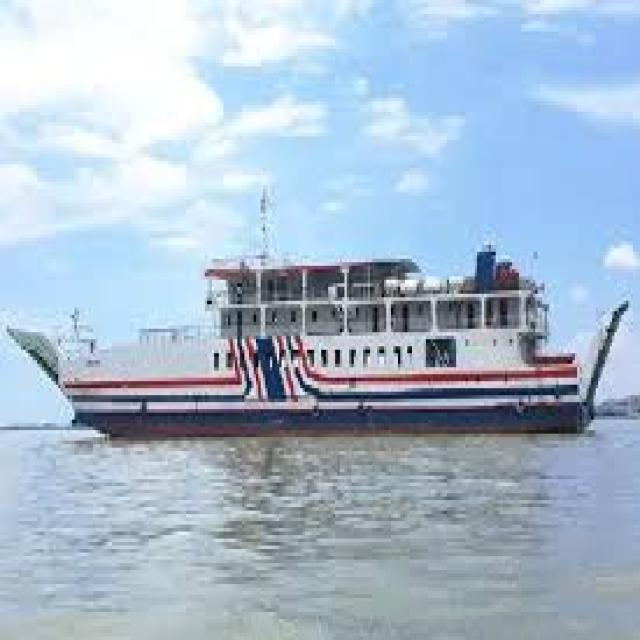passenger ship: (11, 226, 594, 442)
